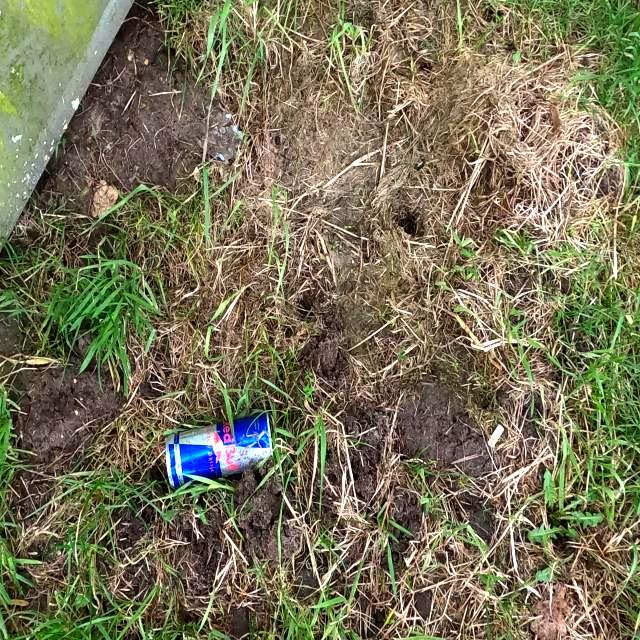Metal: (162, 411, 274, 491)
